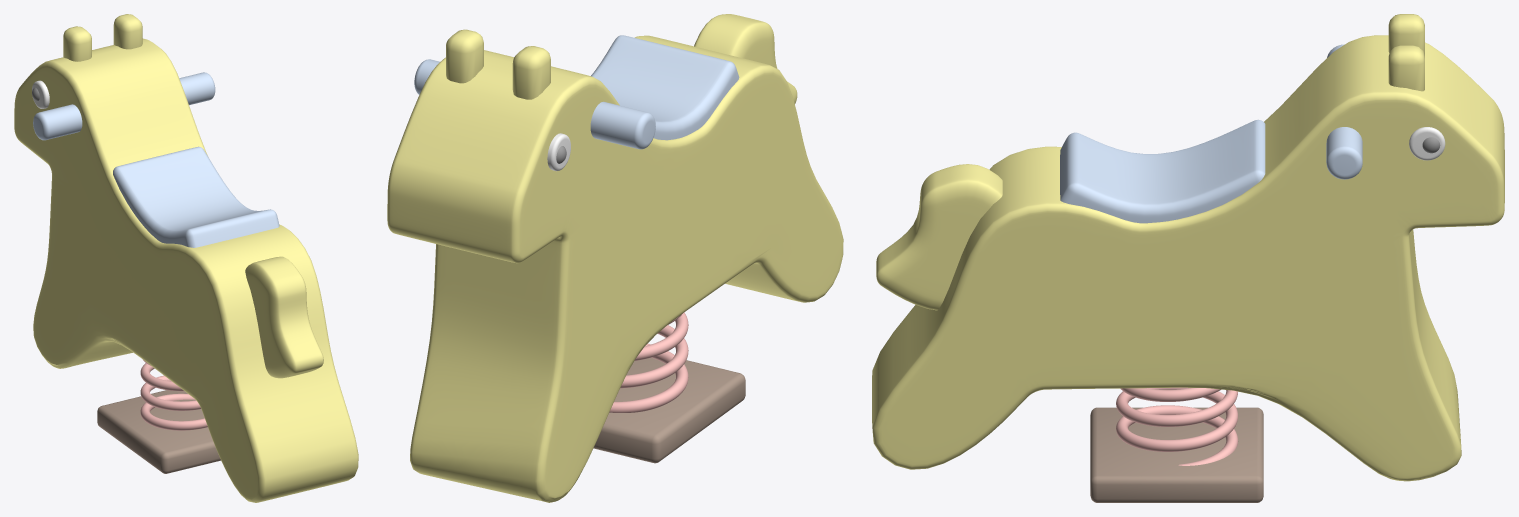
The model's file is mockma1.glb.
The picture shows the model from 3 angles, left to right: view 1: azimuth 30°, elevation 25°; view 2: azimuth 150°, elevation 25°; view 3: azimuth 270°, elevation 25°; orthographic projection. The views are drawn at different scales.
Visible parts, largest first — view 1: Polygon; view 2: Polygon; view 3: Polygon.
Part boxes in pixels (box(x1,y1,x2,y2)): Polygon: box(14, 14, 358, 502); Polygon: box(387, 14, 843, 502); Polygon: box(872, 14, 1504, 502).
Bounding box in the file's own units: 2.28 × 4.4 × 5.75.
